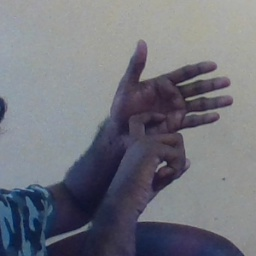R: (104, 38, 236, 181)
